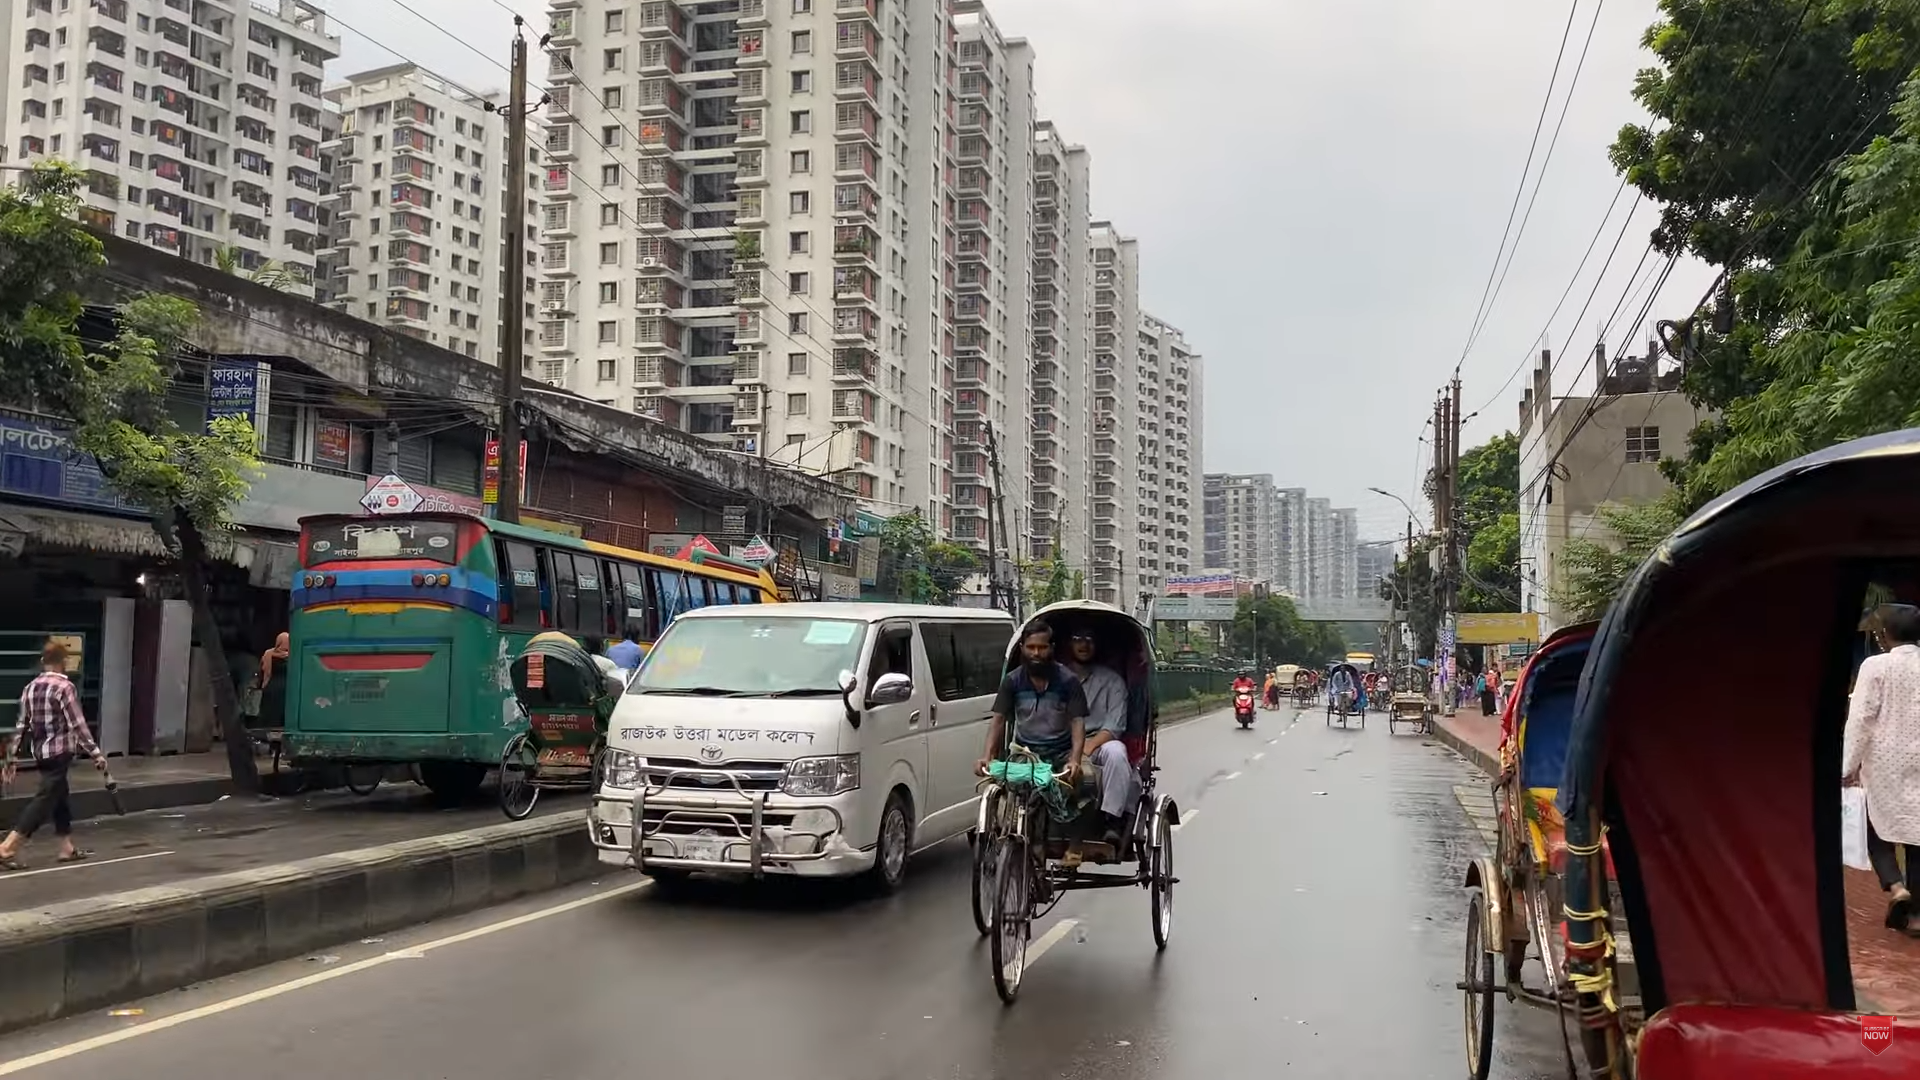Bus: (282, 512, 504, 787)
Car: (591, 596, 955, 905)
Rickshaw: (963, 589, 1182, 1013)
